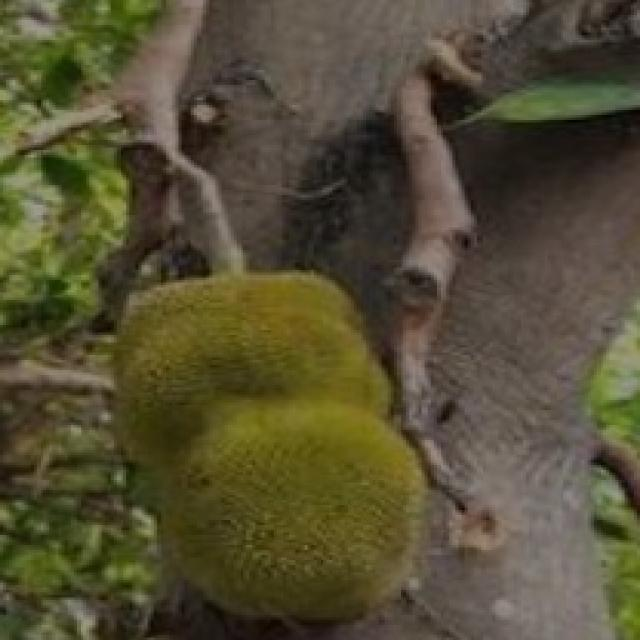Fruit: (83, 230, 468, 640)
